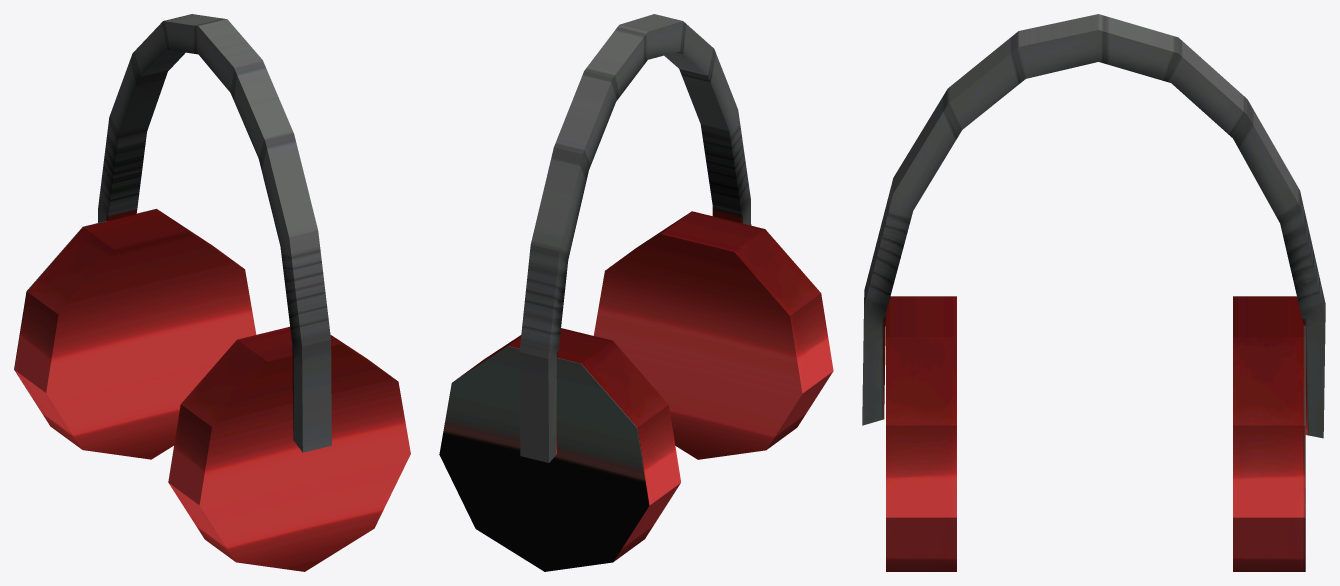
File: Headphon.glb
3 views of the same model, side by side, from view 1: azimuth 30°, elevation 25°; view 2: azimuth 150°, elevation 25°; view 3: azimuth 270°, elevation 25° (orthographic). The views are drawn at different scales.
Parts seen in each view (by area): view 1: Headphon; view 2: Headphon; view 3: Headphon.
Boxes of the visible parts, x1,y1,x2,y2 form: Headphon: (14, 14, 410, 571); Headphon: (439, 14, 833, 571); Headphon: (862, 14, 1325, 571).
Bounding box in the file's own units: 42.87 × 93.02 × 71.96.
Materials: 1 (1 with a texture image).
